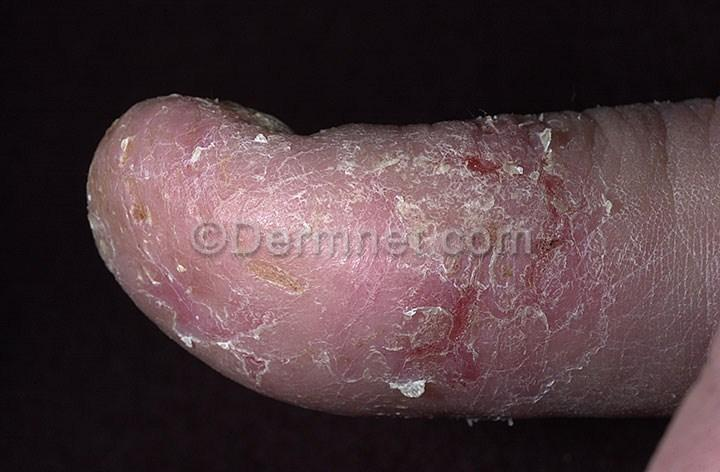Eczema: (445, 105, 617, 232), (311, 271, 488, 385), (159, 122, 350, 226), (486, 275, 609, 397), (196, 254, 302, 362), (336, 135, 443, 231), (608, 225, 696, 334), (103, 221, 192, 311), (91, 128, 161, 226), (543, 226, 599, 273)
